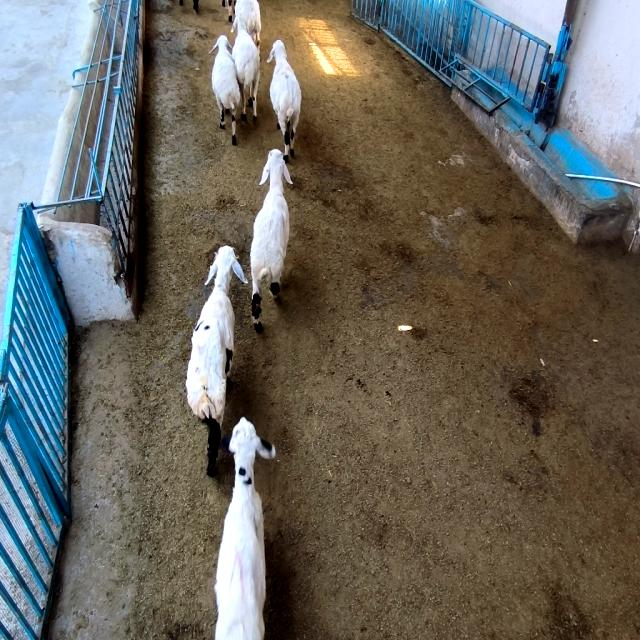sheep: (186, 245, 248, 476), (215, 417, 275, 639), (250, 150, 292, 329), (268, 40, 301, 161), (210, 35, 241, 144), (231, 20, 260, 119), (231, 0, 261, 47)
